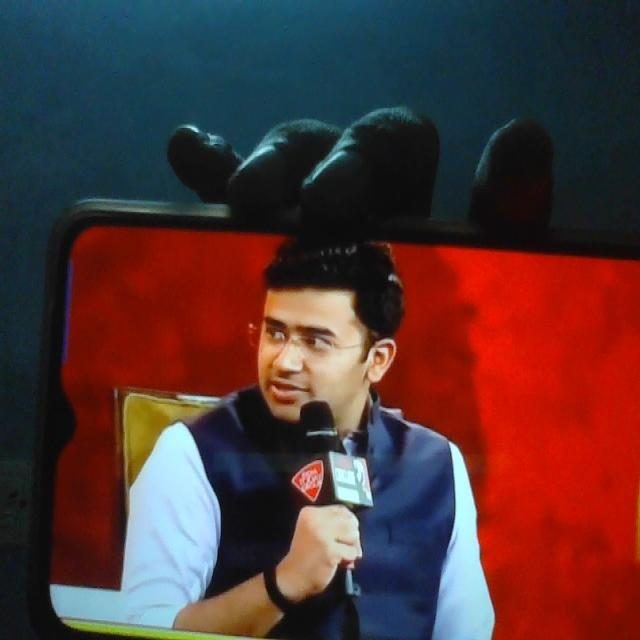fake: (249, 226, 370, 454)
